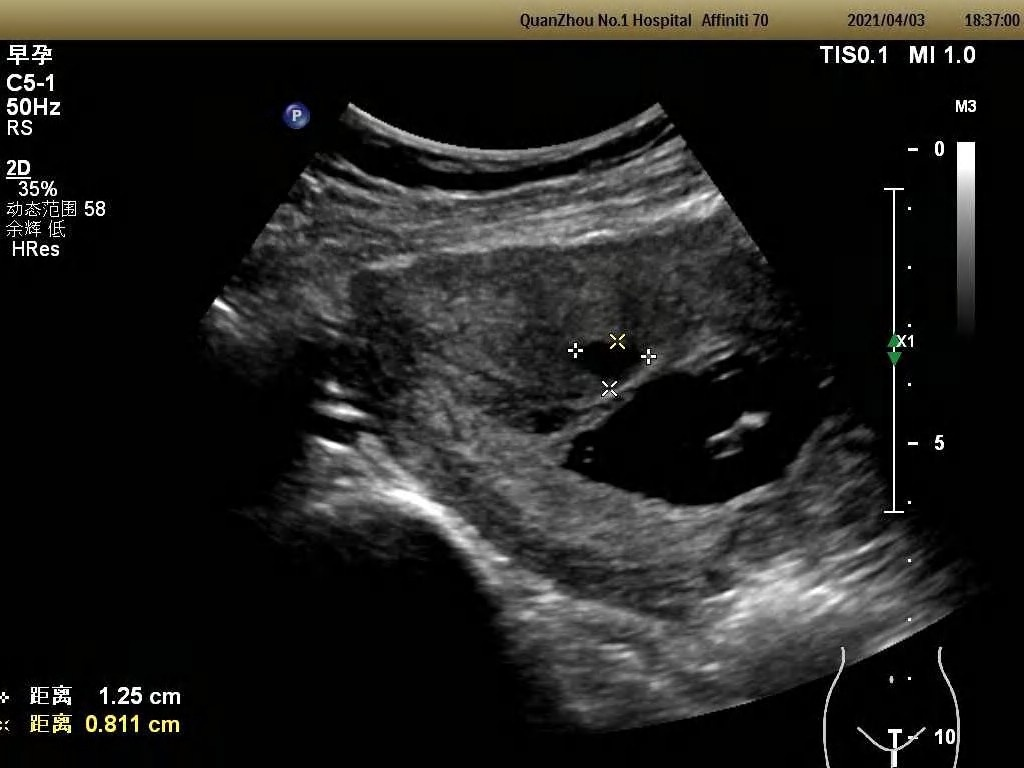肌瘤: (574, 340, 650, 388)
